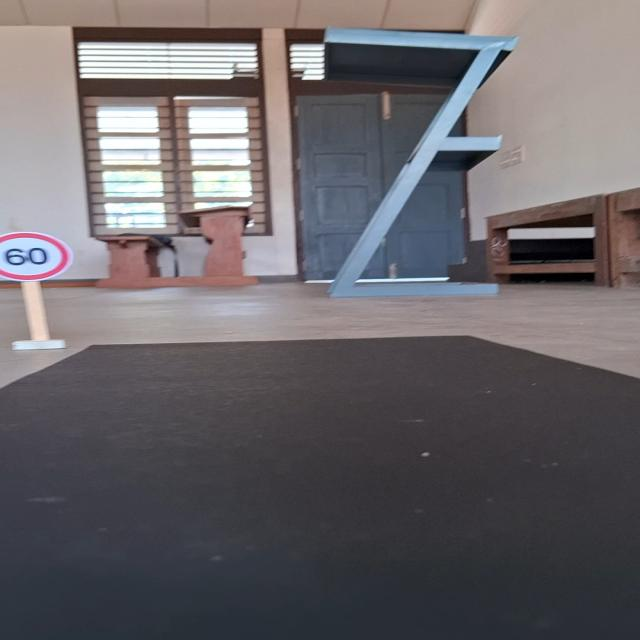Speed60: (0, 229, 73, 283)
